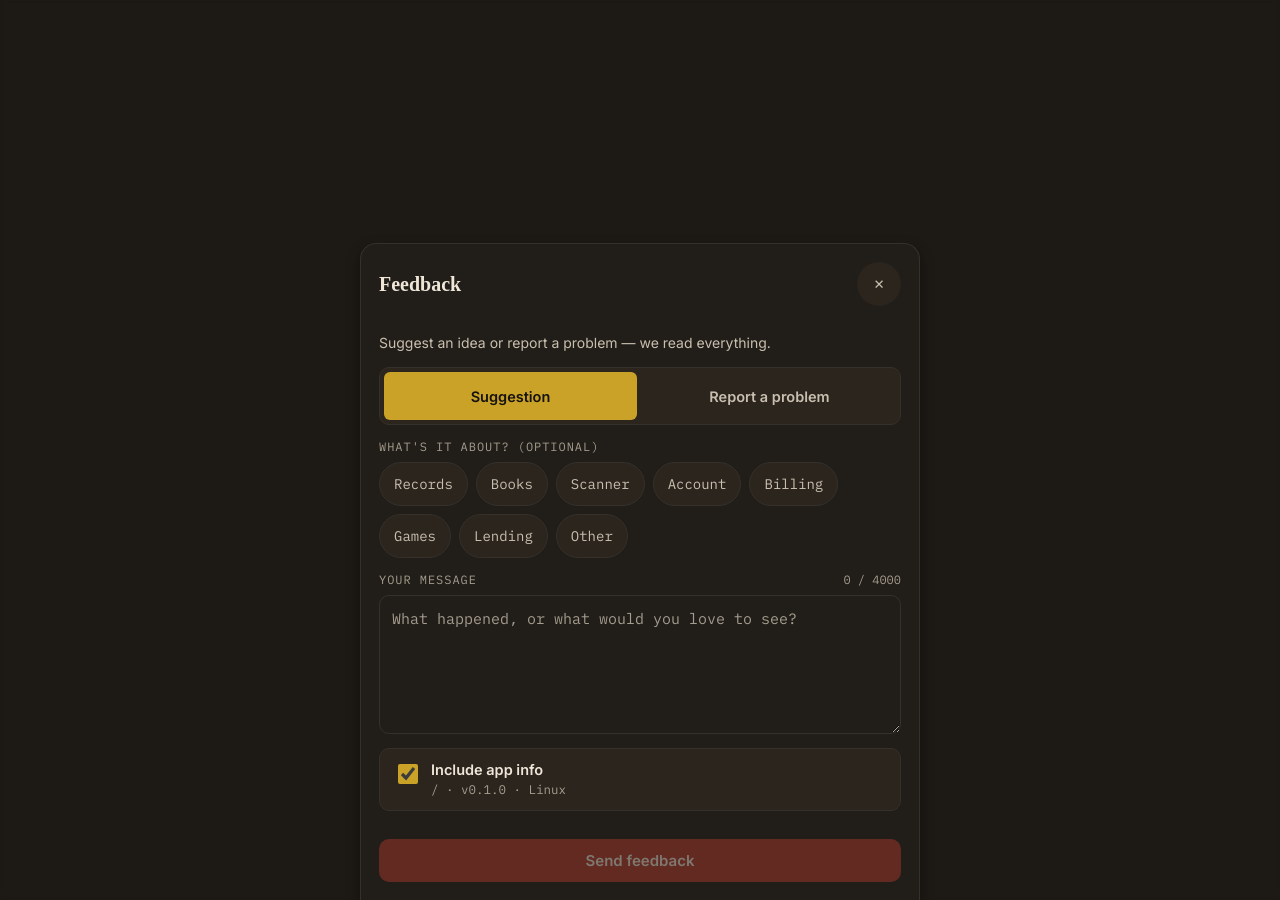
Scenario: FeedbackModal — member-facing form (feat/feedback #82, epic #74) › submits and shows the reference id on success
Type "The scanner froze on iOS." into the text box labelled "Your message 0 / 4000".
click(640, 665); type("The scanner froze on iOS.")  # box [379, 595, 901, 734]
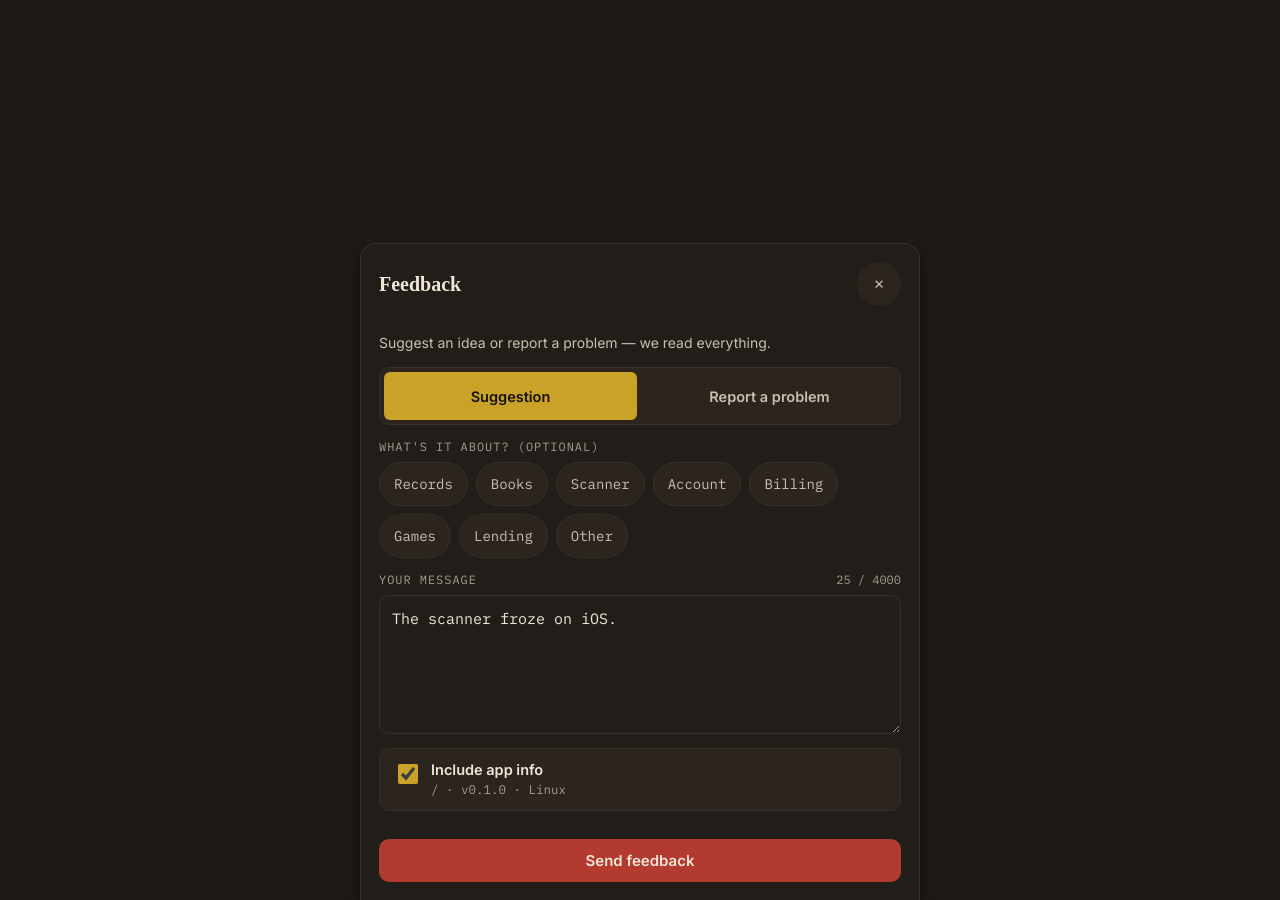
Click the button "Send feedback".
click(640, 860)  # box [379, 839, 901, 882]
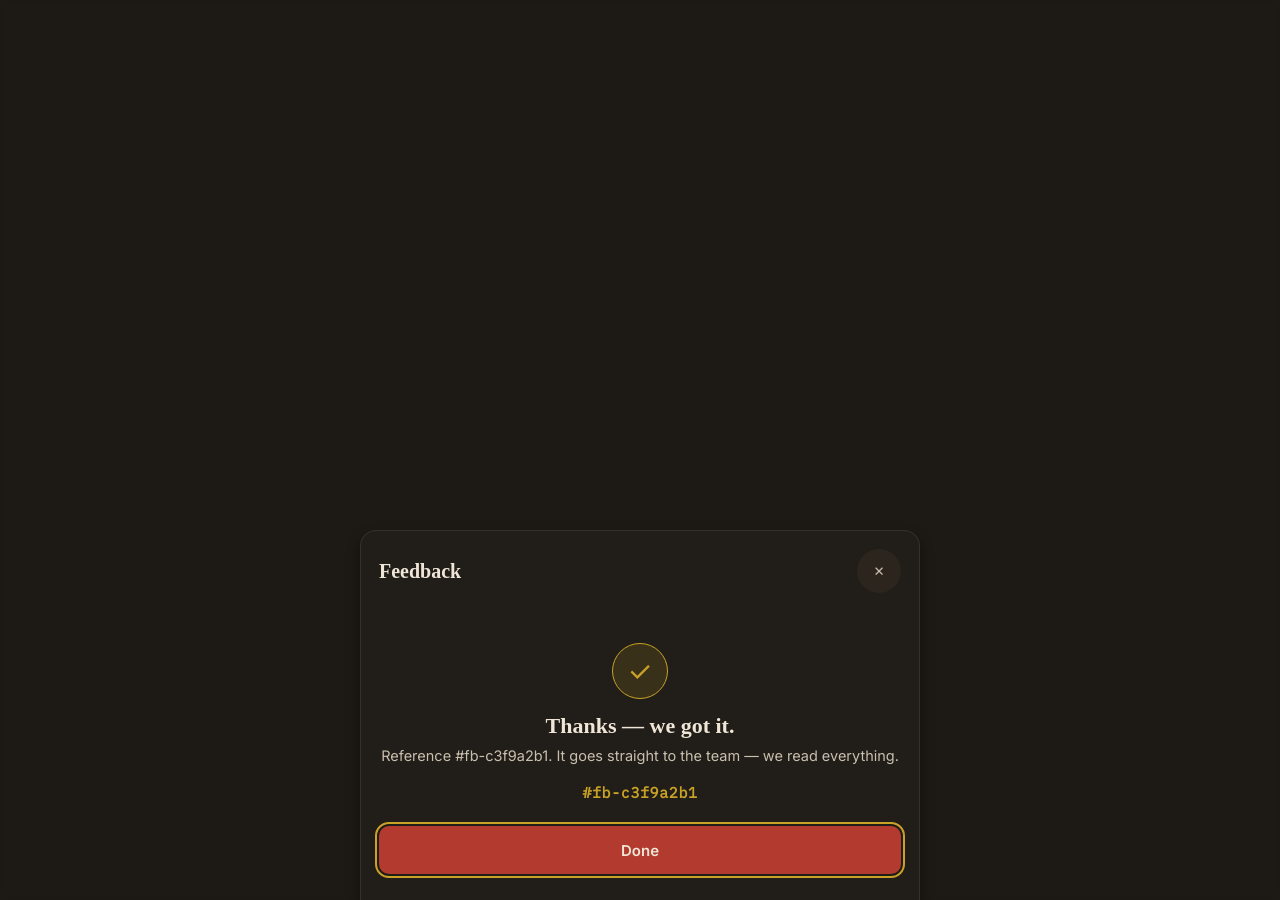
Expected: the text "#fb-c3f9a2b1" is shown, [582, 783, 698, 802]
Expected: the heading "Thanks — we got it." is shown, [546, 713, 734, 739]
